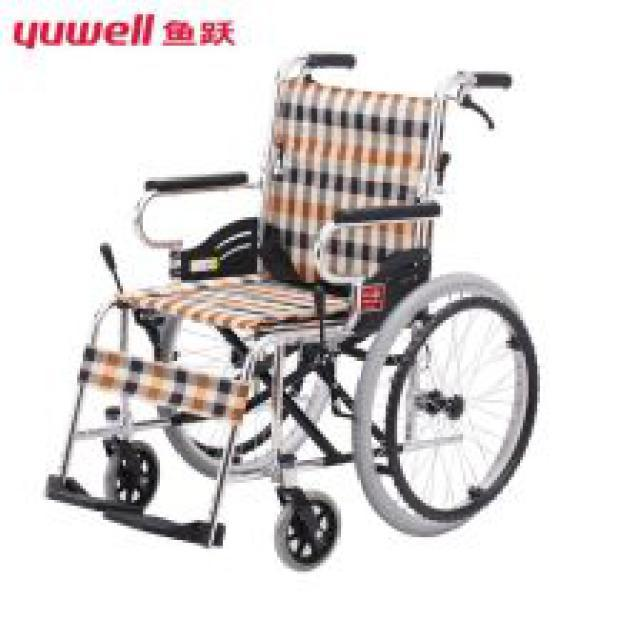wheelchair: (23, 46, 560, 560)
